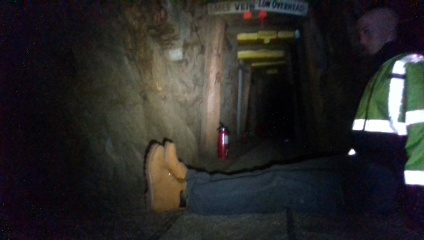fire_extinguisher: (214, 119, 231, 161)
manikin: (145, 8, 423, 224)
